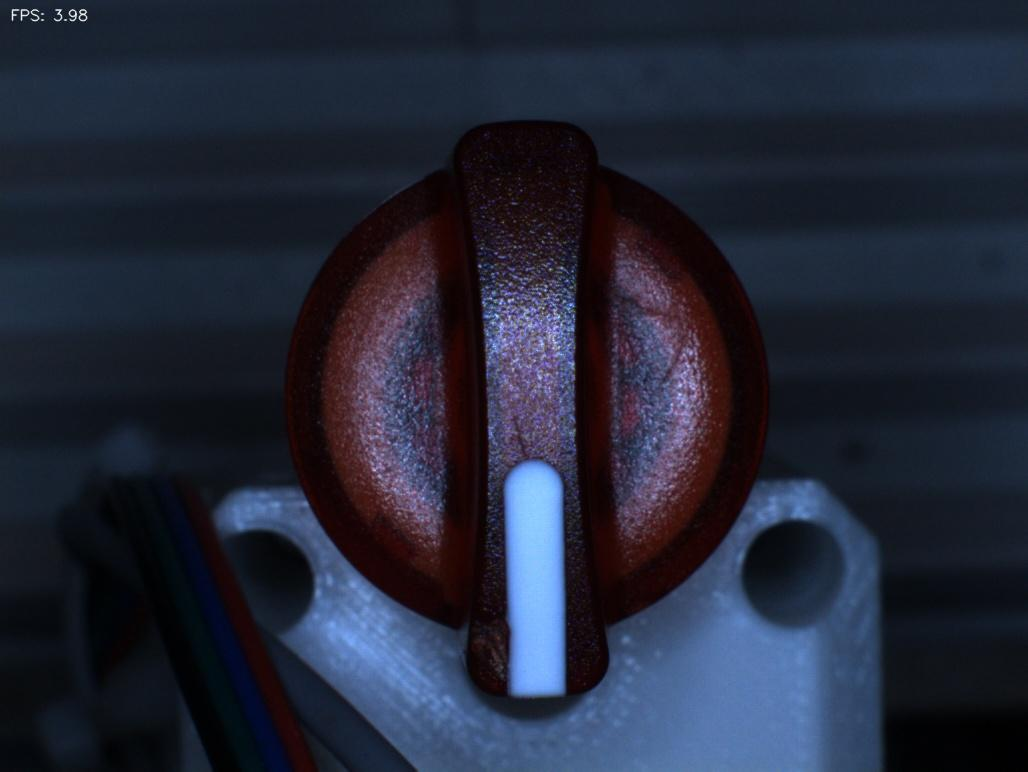Choc: (454, 595, 531, 701)
